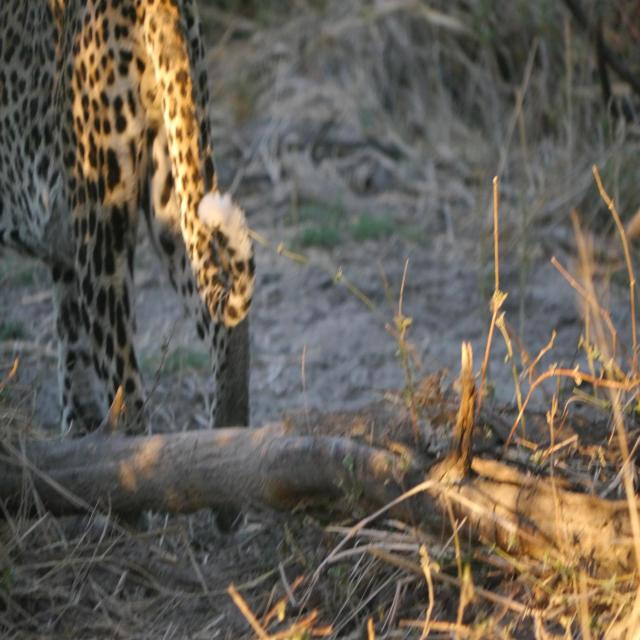Leopard: (0, 0, 274, 470)
